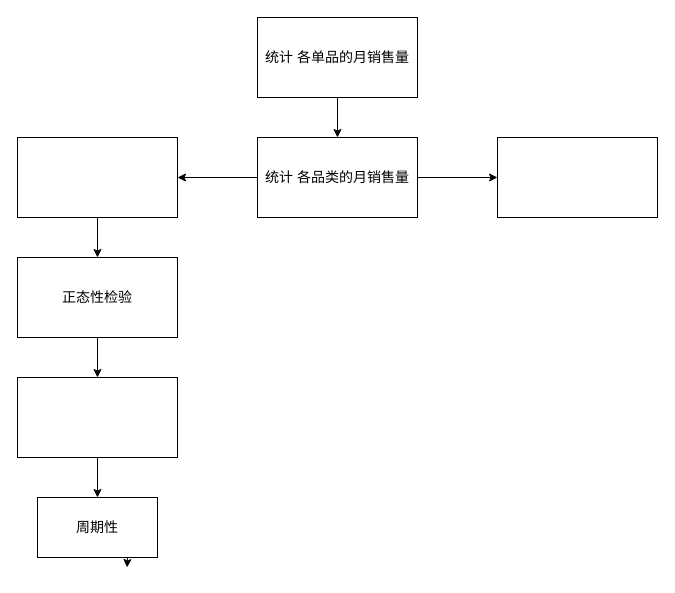
Some shapes in this 675 by 593 pixel diagram are drawn without their labels. The centre of each missing label's shape, as x and y in pixels:
Kendall 一致性检验: point 97,417
绘制 销售量-月份 折线图: point 97,177
